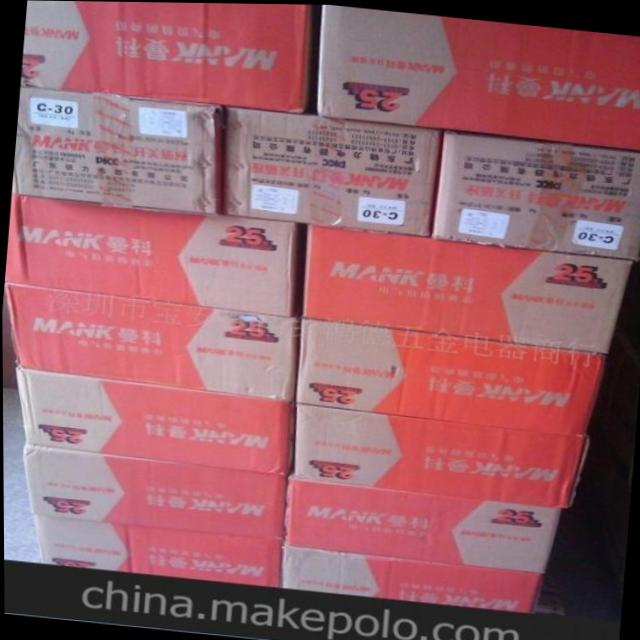box: (314, 4, 640, 147), (301, 223, 632, 351), (4, 194, 309, 315), (298, 315, 606, 433), (4, 282, 301, 401), (20, 0, 318, 111), (290, 401, 588, 505), (16, 363, 294, 469), (223, 105, 442, 234), (11, 83, 221, 215), (425, 128, 640, 256), (283, 473, 562, 570), (22, 442, 287, 538), (281, 539, 544, 611), (30, 518, 285, 584), (2, 283, 19, 387), (536, 559, 561, 611)
